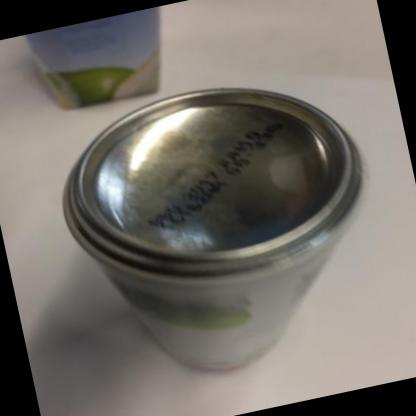Metal: (62, 89, 363, 372)
